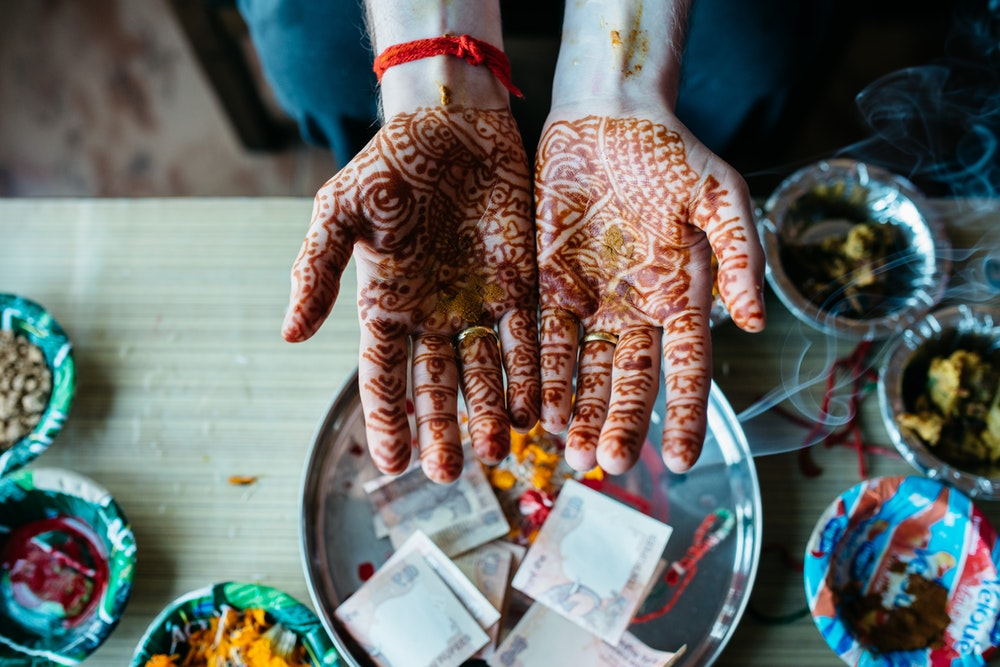palm: (362, 140, 524, 316), (552, 149, 699, 328)
